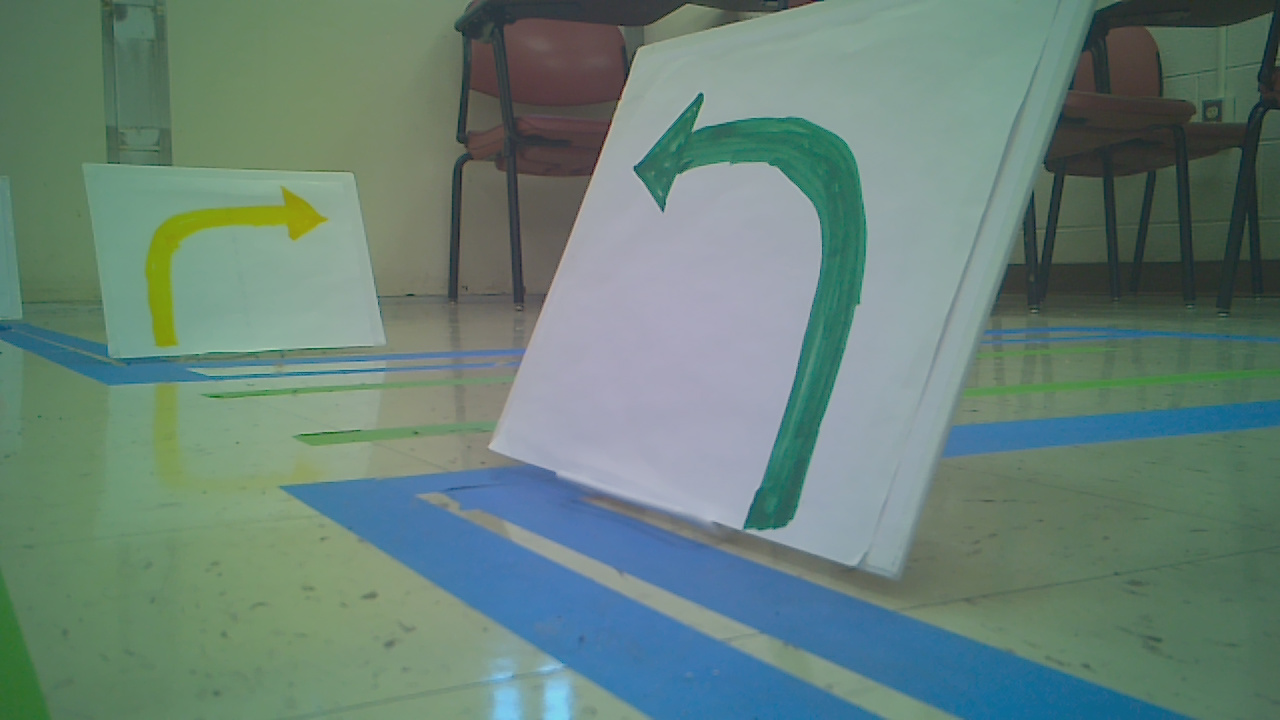left: (623, 86, 875, 541)
right: (143, 166, 334, 345)
